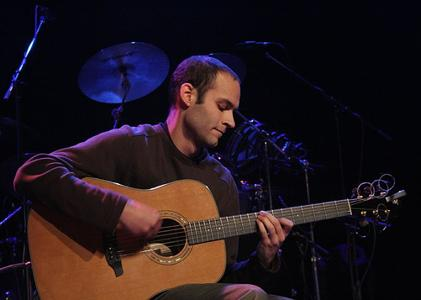person: (13, 55, 295, 300)
